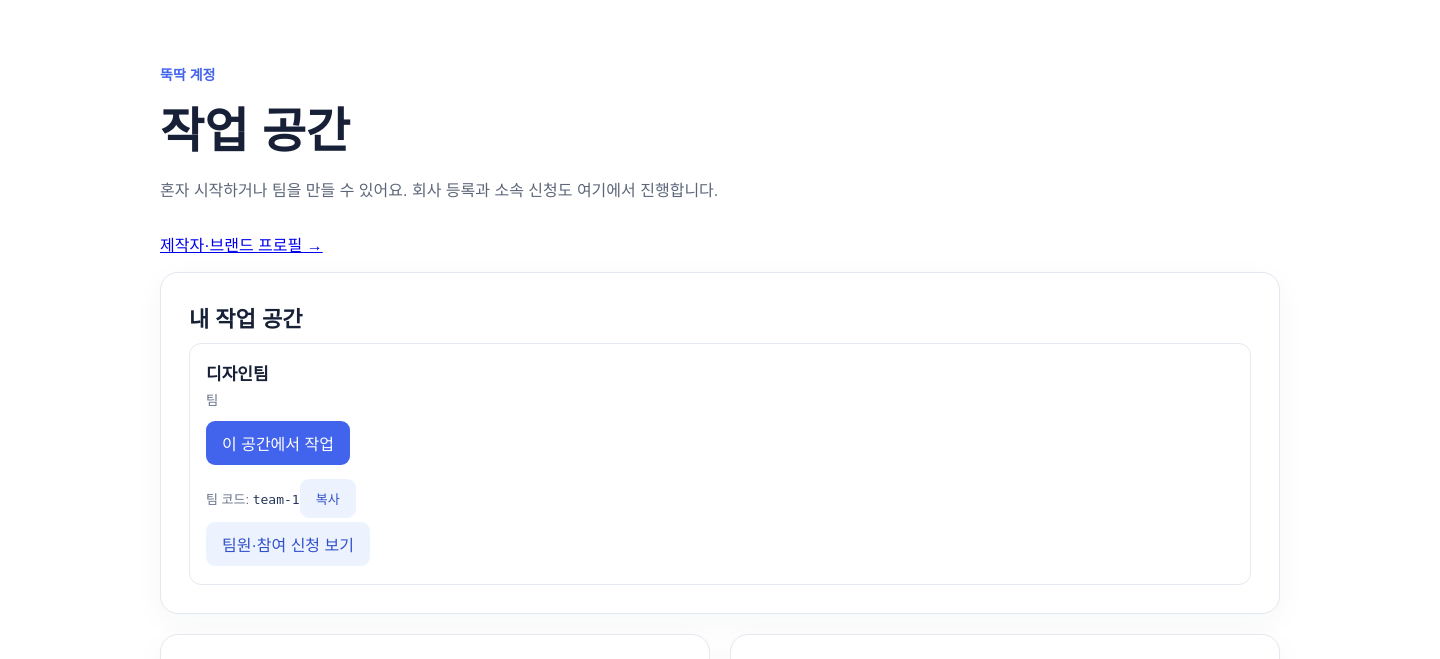
Test: owner can remove active editors and admins; owner and pending members remain protected
Step 1. Click the button "팀원·참여 신청 보기" → (288, 544), box [206,522,370,566]
(page scrolled)
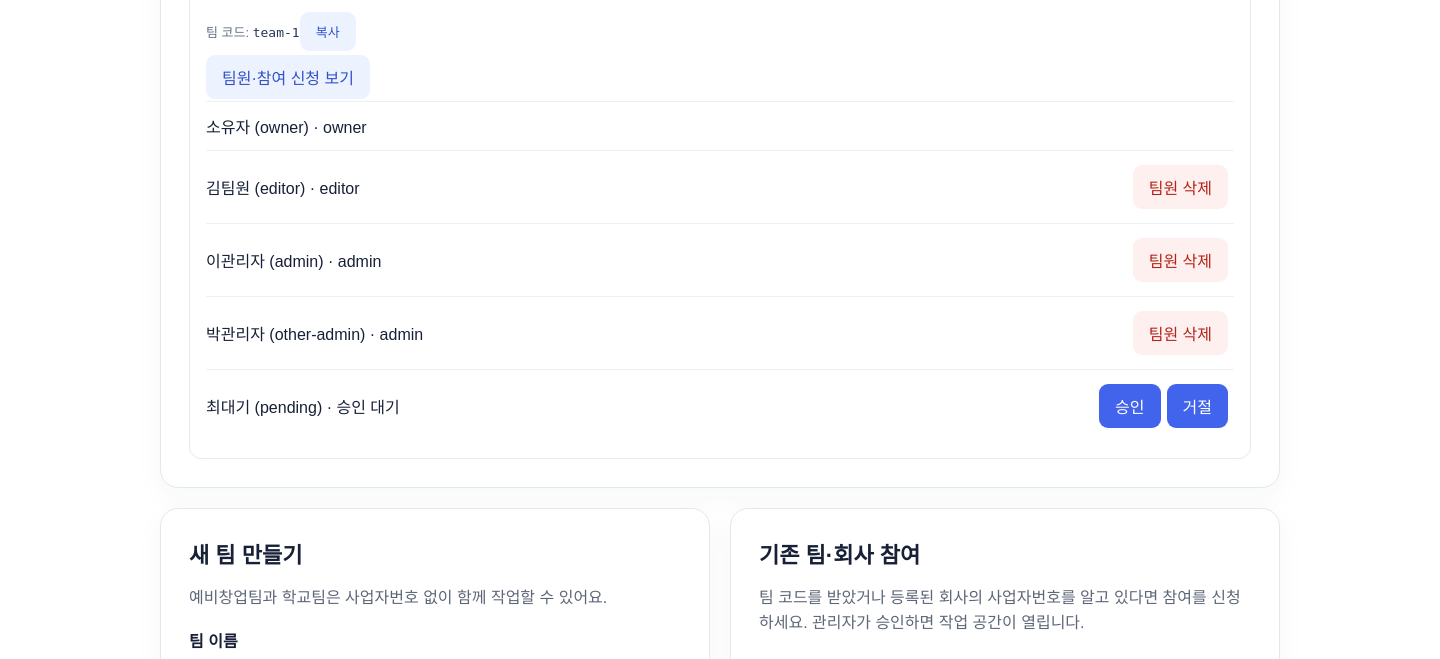
Now the text "김팀원 (editor) · editor" is shown, box [206,175,360,199]
Now the button with aria-label "김팀원 팀원 삭제" is enabled, box [1133,165,1228,209]
Now the button with aria-label "이관리자 팀원 삭제" is enabled, box [1133,238,1228,282]
